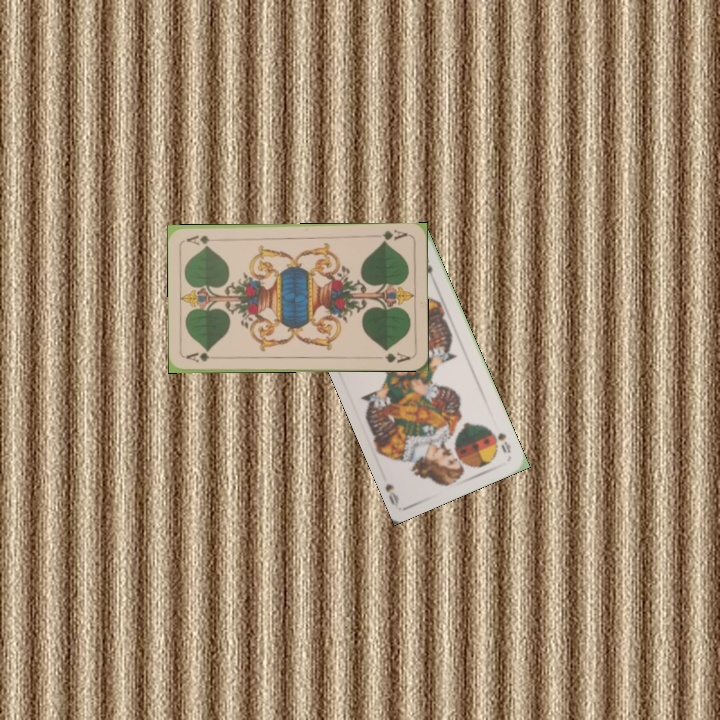GA: (371, 226, 410, 246), (183, 348, 223, 365)
SO: (489, 428, 513, 456)
